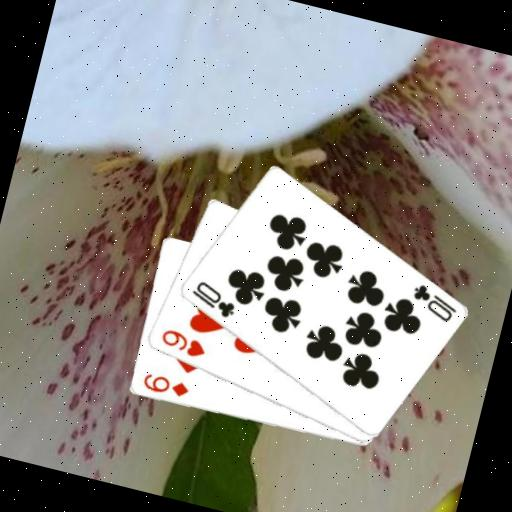10C: (405, 279, 463, 326), (185, 277, 242, 322)
6D: (138, 370, 192, 402)
9H: (155, 324, 210, 362)
